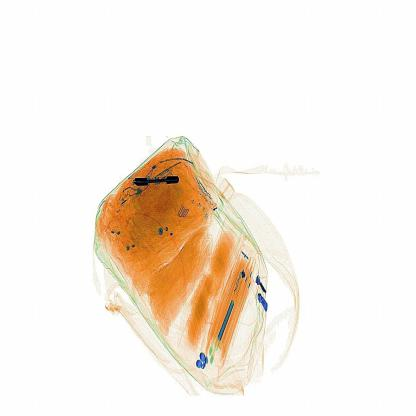knife: (125, 168, 188, 196)
